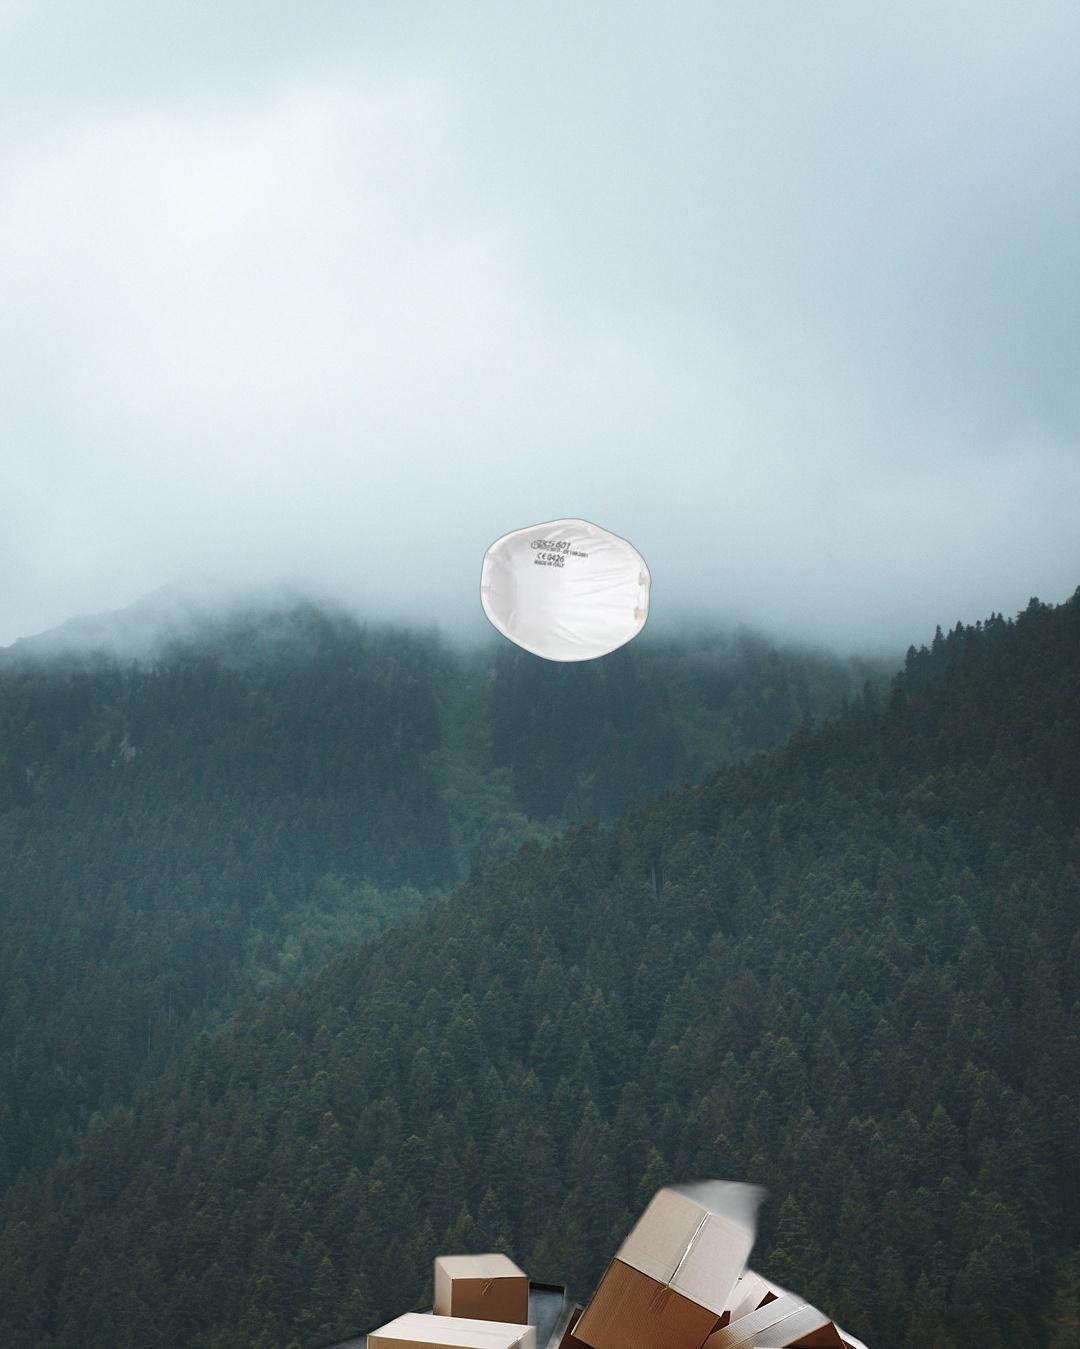metal-cans: (816, 273, 1080, 589)
trash: (477, 516, 654, 665)
trashbox-cardboard: (219, 1156, 1080, 1349), (631, 1277, 1080, 1349)
